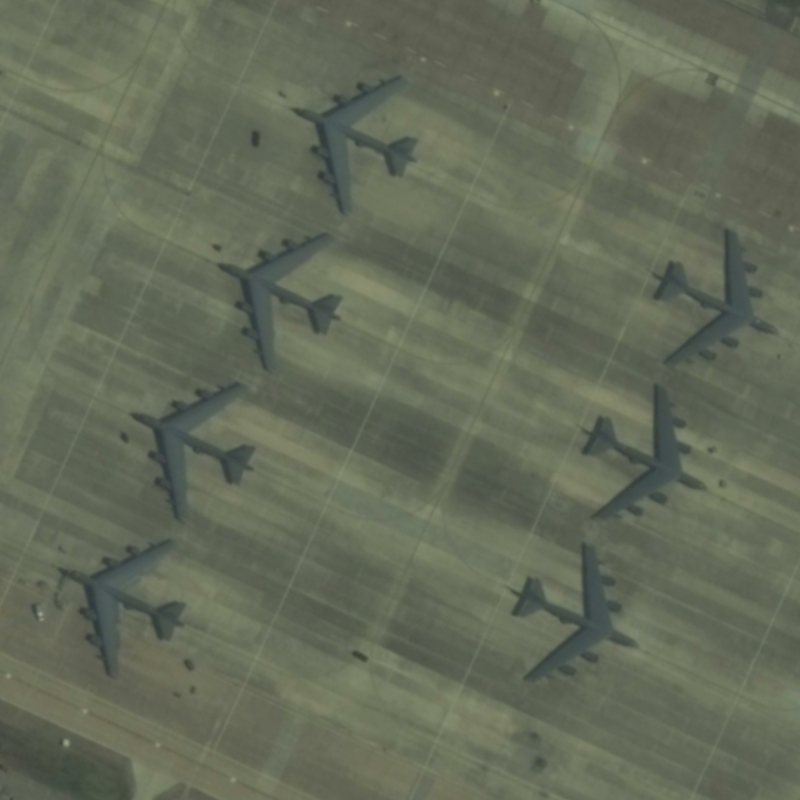A8: (48, 532, 193, 683), (500, 534, 643, 686), (284, 69, 426, 217), (646, 223, 787, 372), (210, 227, 349, 378), (125, 373, 260, 527), (578, 379, 714, 528)
